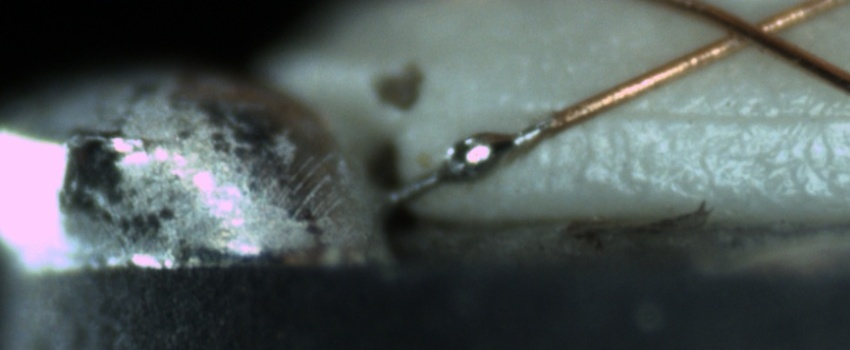CL: (698, 2, 794, 59)
DL: (582, 88, 850, 152)
TB: (435, 125, 524, 187)
TS: (386, 119, 551, 210)
TTCW: (375, 98, 592, 206)
